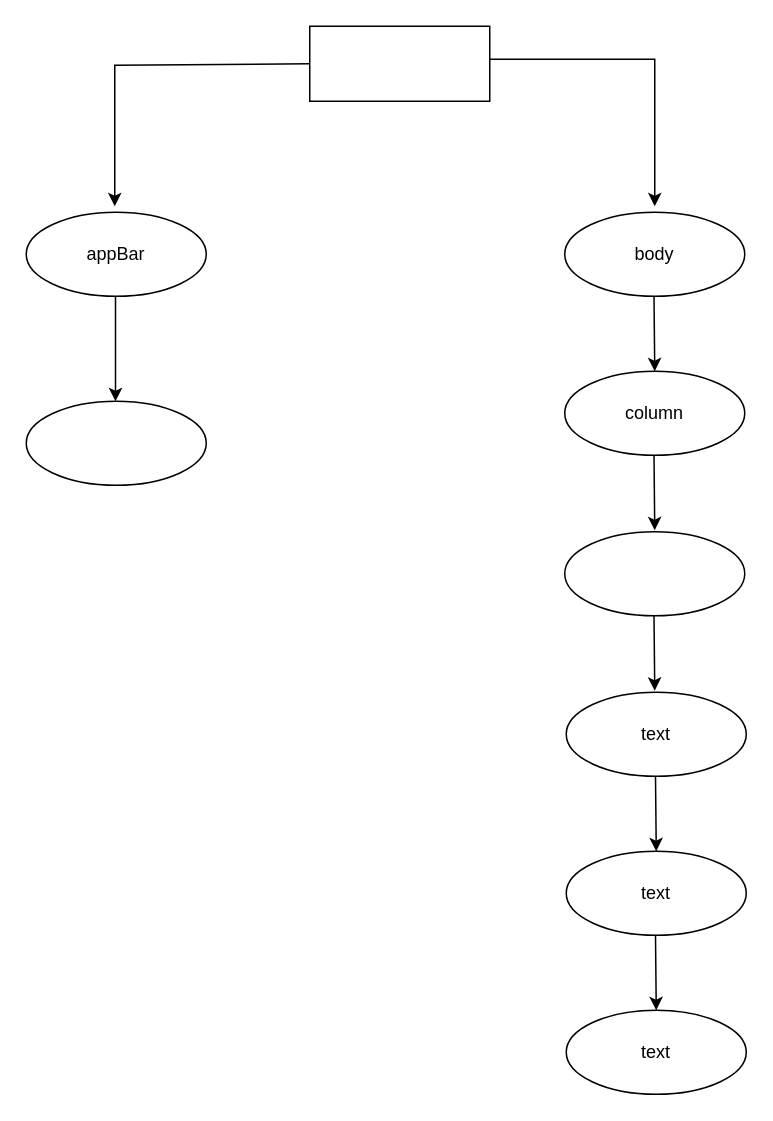
Some shapes in this 773 by 1121 pixel diagram are drawn without their labels. Here are the shapes that lost their labels. From the top down, the box of each, then its label:
(308, 25, 490, 101): Scafflod
(25, 400, 206, 485): title
(563, 530, 745, 616): image
